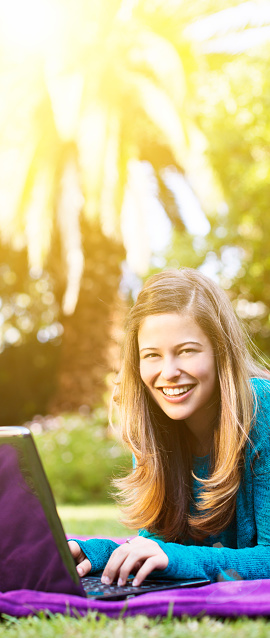deitado: (12, 281, 270, 604)
